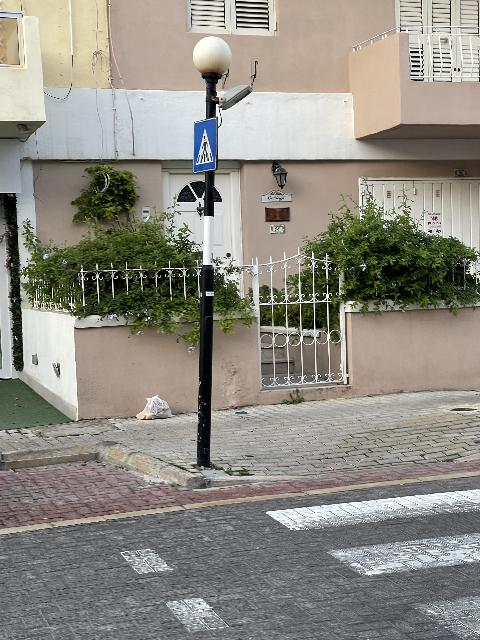Organic -White-: (136, 395, 172, 420)
